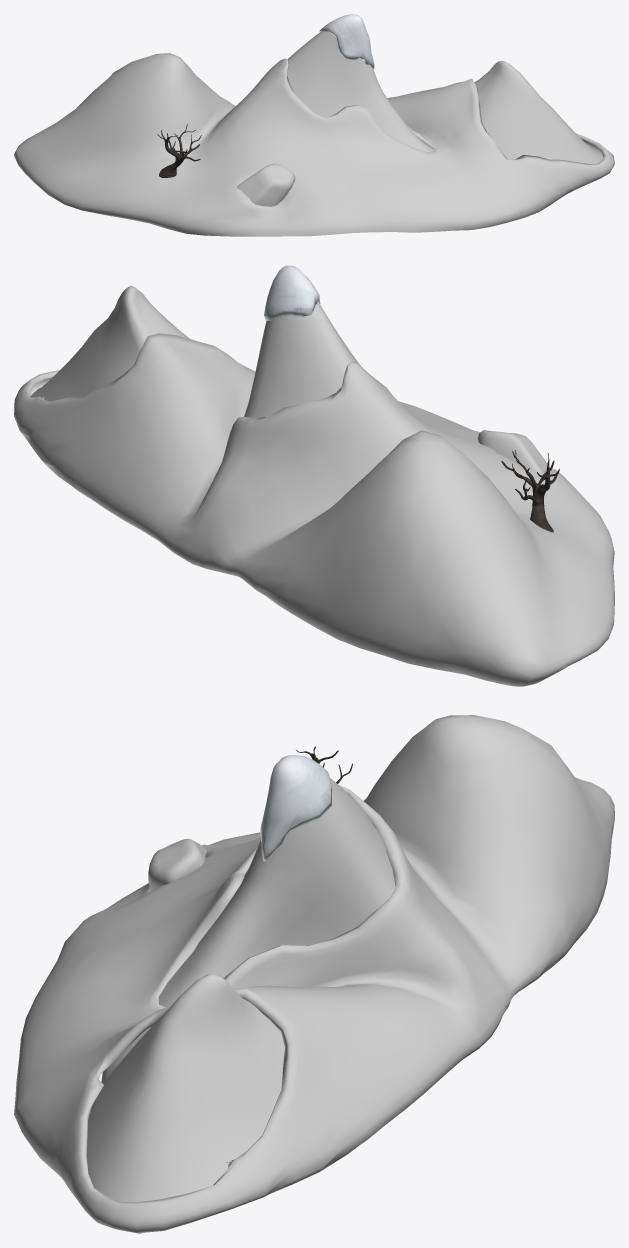
File: snowy mountains.fbx
3 renders of one model, top to bottom at view 1: azimuth 30°, elevation 25°; view 2: azimuth 150°, elevation 25°; view 3: azimuth 270°, elevation 25°, orthographic. The views are drawn at different scales.
Visible parts, largest first — view 1: snowmountains, mountains, rock, snowpeak, tree001; view 2: snowmountains, mountains, snowpeak, rock, tree001; view 3: snowmountains, mountains, snowpeak, rock.
Boxes of the visible parts, box(x1,y1,x2,y2) form: snowmountains: box(14, 53, 614, 236); mountains: box(287, 31, 603, 163); rock: box(236, 163, 295, 206); snowpeak: box(319, 14, 374, 68); tree001: box(157, 124, 201, 177); snowmountains: box(14, 333, 614, 686); mountains: box(30, 285, 360, 417); snowpeak: box(264, 265, 320, 320); rock: box(477, 430, 547, 472); tree001: box(501, 450, 559, 532); snowmountains: box(14, 715, 614, 1233); mountains: box(86, 778, 395, 1233); snowpeak: box(260, 755, 331, 861); rock: box(148, 838, 206, 891).
Bounding box in the file's own units: 261 × 91.28 × 164.
